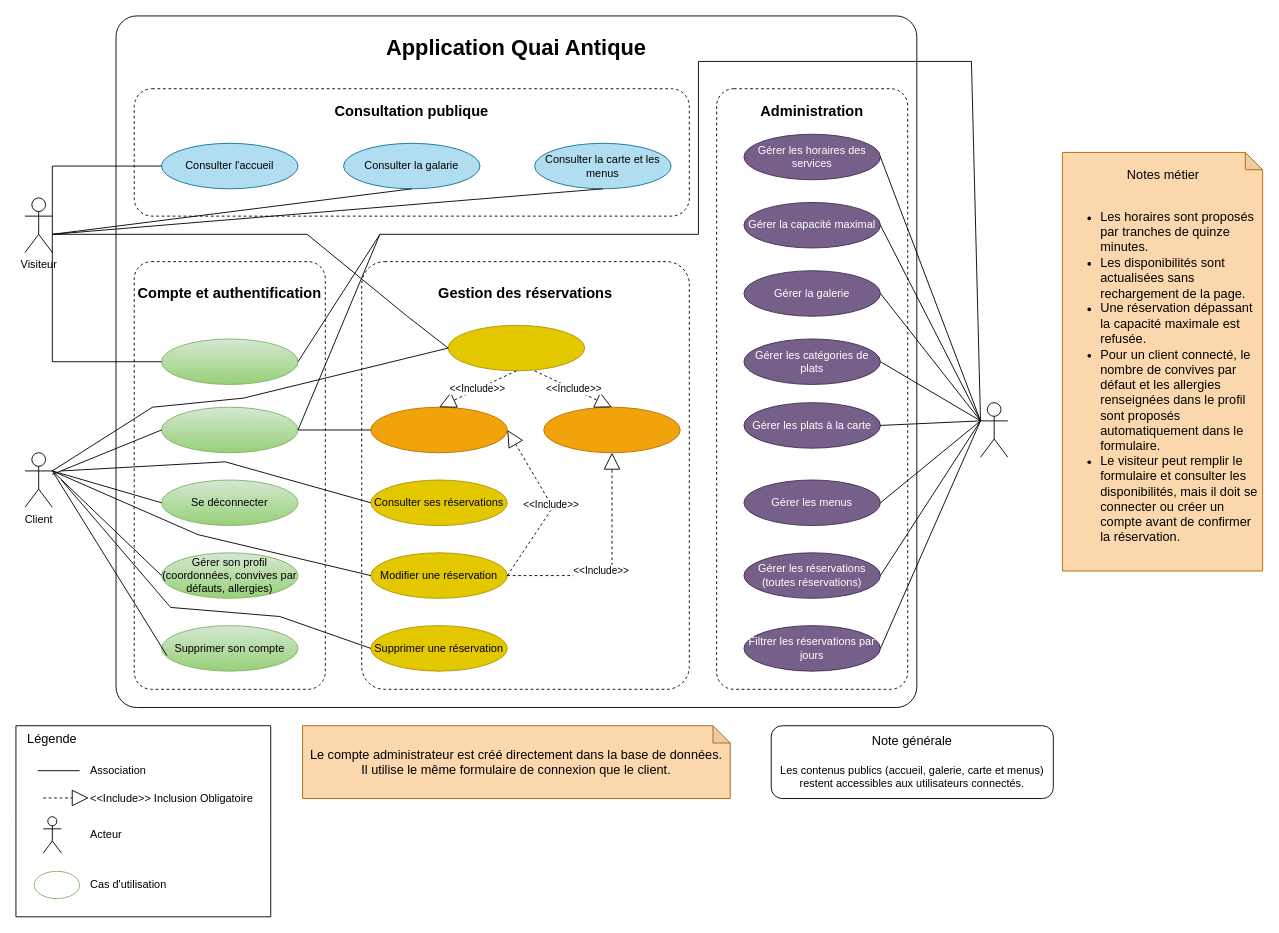
Image size: 1279x933. Some labels were removed from this diagram. Each missing label, with the box of its shape:
Administrateur: (980, 402, 1008, 457)
Créer un compte: (161, 338, 298, 384)
Réserver une table: (447, 324, 585, 371)
Se connecter: (161, 406, 298, 453)
Vérifier la capacité maximal: (543, 406, 680, 453)
Vérifier les disponibilités: (370, 406, 507, 453)
